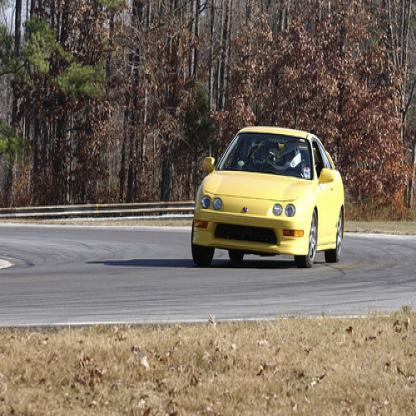Vehicle: (190, 123, 347, 269)
